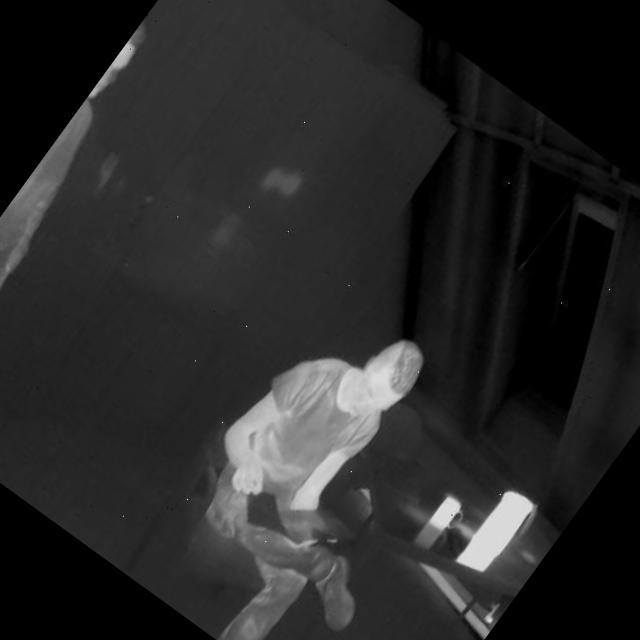person: (121, 278, 513, 640), (0, 0, 223, 437)
